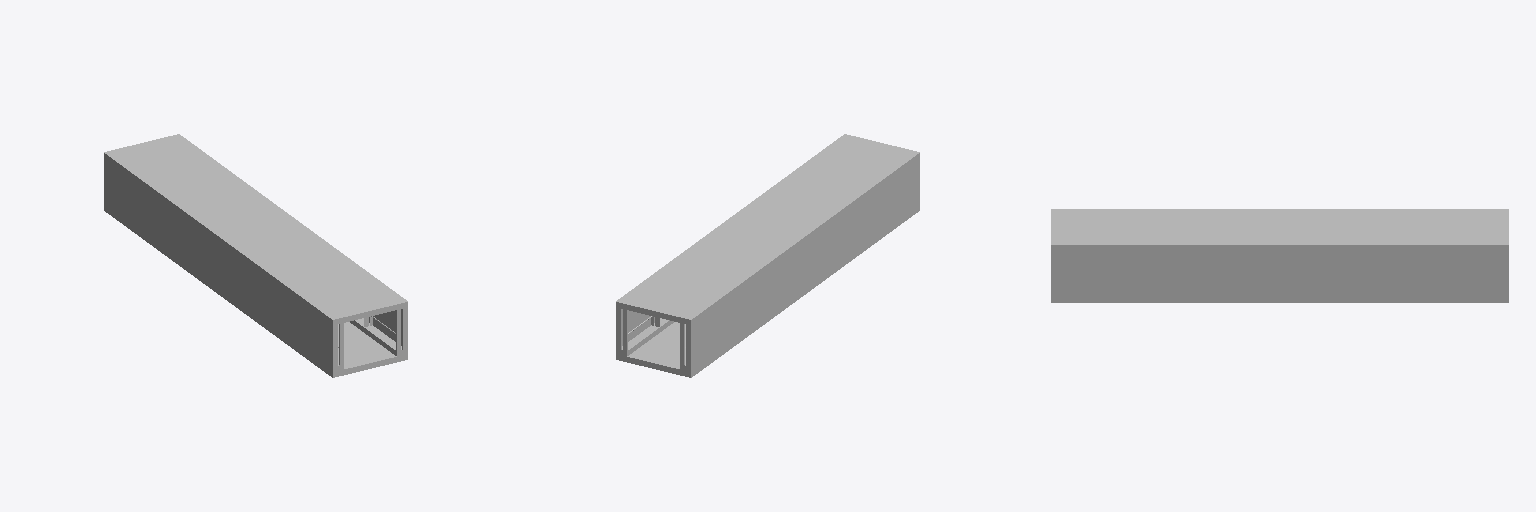
Rendered from skybridge.obj.
3 views of the same model, side by side, from view 1: azimuth 30°, elevation 25°; view 2: azimuth 150°, elevation 25°; view 3: azimuth 270°, elevation 25° (orthographic).
Parts seen in each view (by area): view 1: Skybridge polySurface2 polySurface4 polySurface7 polySurface10 p, Skybridge polySurface2 polySurface4 polySurface7 polySurface11 p, Skybridge polySurface3 polySurface2, Skybridge polySurface2 polySurface4 polySurface6; view 2: Skybridge polySurface2 polySurface4 polySurface7 polySurface10 p, Skybridge polySurface2 polySurface4 polySurface7 polySurface11 p, Skybridge polySurface3 polySurface2, Skybridge polySurface2 polySurface4 polySurface6; view 3: Skybridge polySurface2 polySurface4 polySurface7 polySurface10 p.
Part boxes in pixels (x1,y1,x2,y2): Skybridge polySurface2 polySurface4 polySurface7 polySurface10 p: (104,134,407,377); Skybridge polySurface2 polySurface4 polySurface7 polySurface11 p: (104,159,331,365); Skybridge polySurface3 polySurface2: (338,322,396,362); Skybridge polySurface2 polySurface4 polySurface6: (350,318,401,355); Skybridge polySurface2 polySurface4 polySurface7 polySurface10 p: (616,134,919,377); Skybridge polySurface2 polySurface4 polySurface7 polySurface11 p: (692,159,919,365); Skybridge polySurface3 polySurface2: (627,322,685,362); Skybridge polySurface2 polySurface4 polySurface6: (622,318,673,355); Skybridge polySurface2 polySurface4 polySurface7 polySurface10 p: (1051,209,1508,302).
Bounding box in the file's own units: 410 × 301 × 2151.